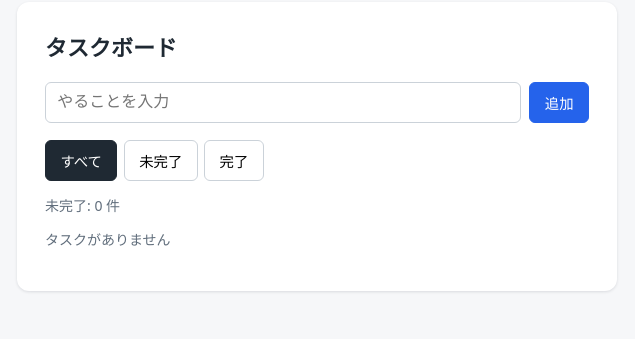
Scenario: App › 空のまま追加するとエラーが表示される
Click the button "追加": (559, 102) [529,82,589,123]
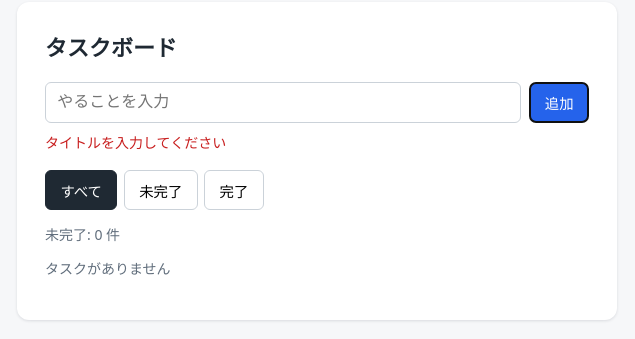
Now the message reads "タイトルを入力してください", box [45,133,226,152]
